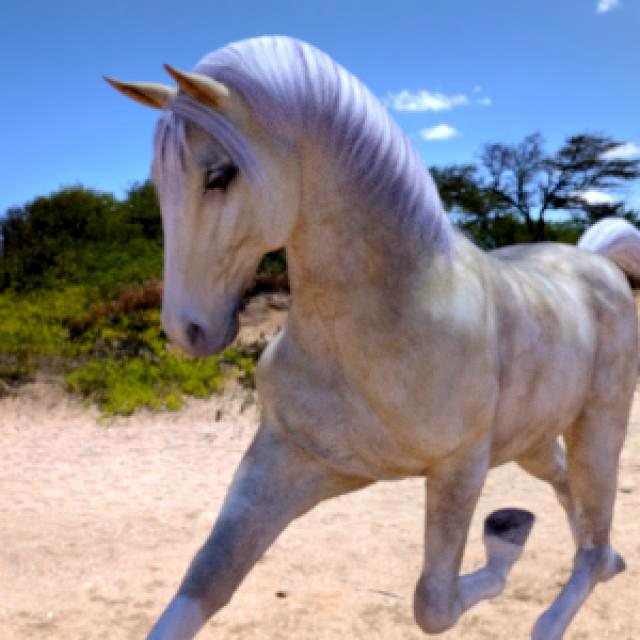horse: (111, 39, 640, 640)
